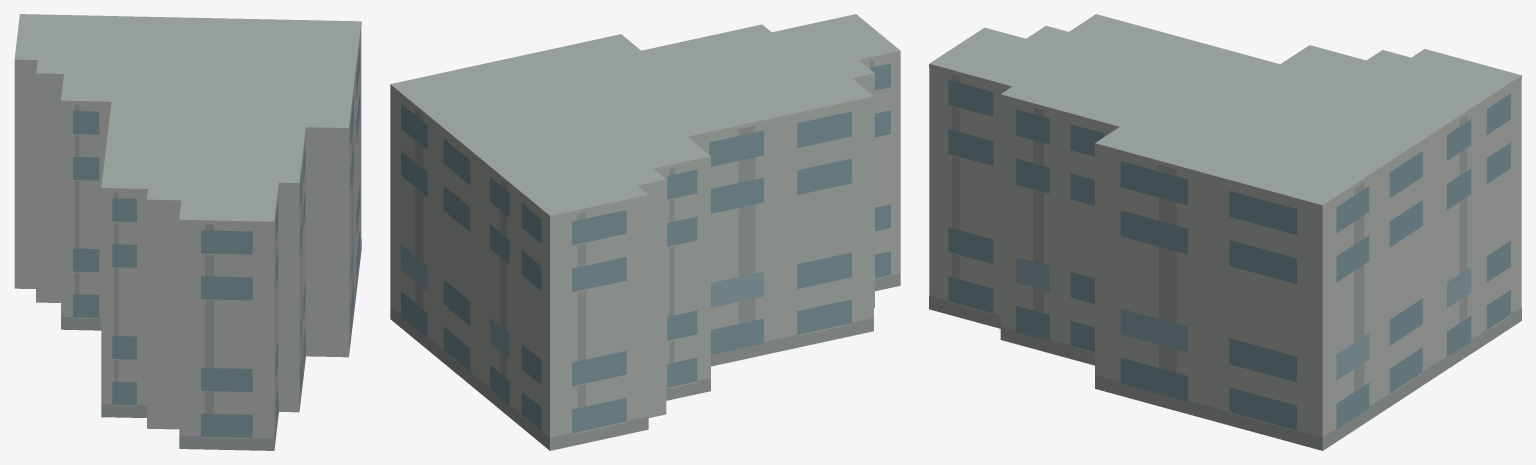
Rendered from residential-7e1cd24b-5e67-4325-a79b-02905062c4a6.glb.
3 renders of one model, left to right at view 1: azimuth 30°, elevation 25°; view 2: azimuth 150°, elevation 25°; view 3: azimuth 270°, elevation 25°, orthographic. The views are drawn at different scales.
Parts seen in each view (by area): view 1: residential-7e1cd24b-5e67-4325-a79b-02905062c4a6.tmp; view 2: residential-7e1cd24b-5e67-4325-a79b-02905062c4a6.tmp; view 3: residential-7e1cd24b-5e67-4325-a79b-02905062c4a6.tmp.
Part boxes in pixels (x1=…): residential-7e1cd24b-5e67-4325-a79b-02905062c4a6.tmp: x1=14, y1=14, x2=361, y2=450; residential-7e1cd24b-5e67-4325-a79b-02905062c4a6.tmp: x1=390, y1=14, x2=900, y2=450; residential-7e1cd24b-5e67-4325-a79b-02905062c4a6.tmp: x1=929, y1=14, x2=1521, y2=450.
Bounding box in the file's own units: 25.49 × 15.25 × 33.36.
